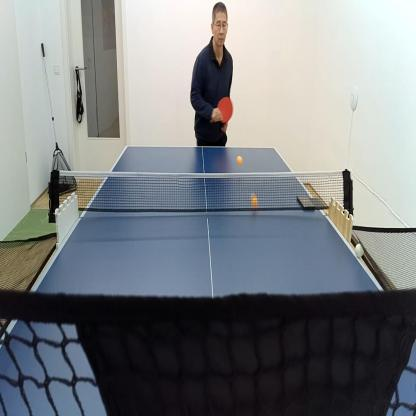Ball: (354, 241, 365, 261), (250, 195, 259, 211), (236, 154, 243, 166)
